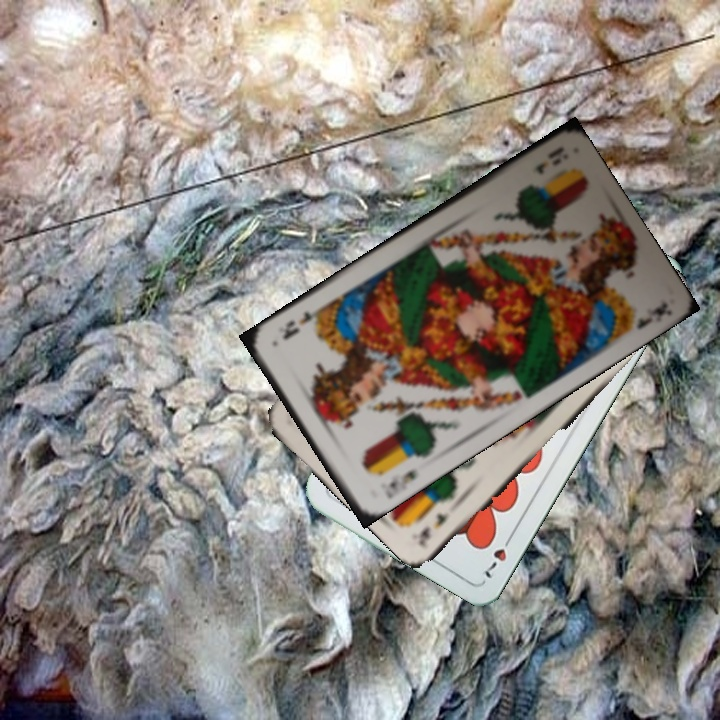EK: (382, 464, 419, 501), (415, 508, 450, 547), (531, 142, 566, 177)
H7: (480, 529, 516, 582)
